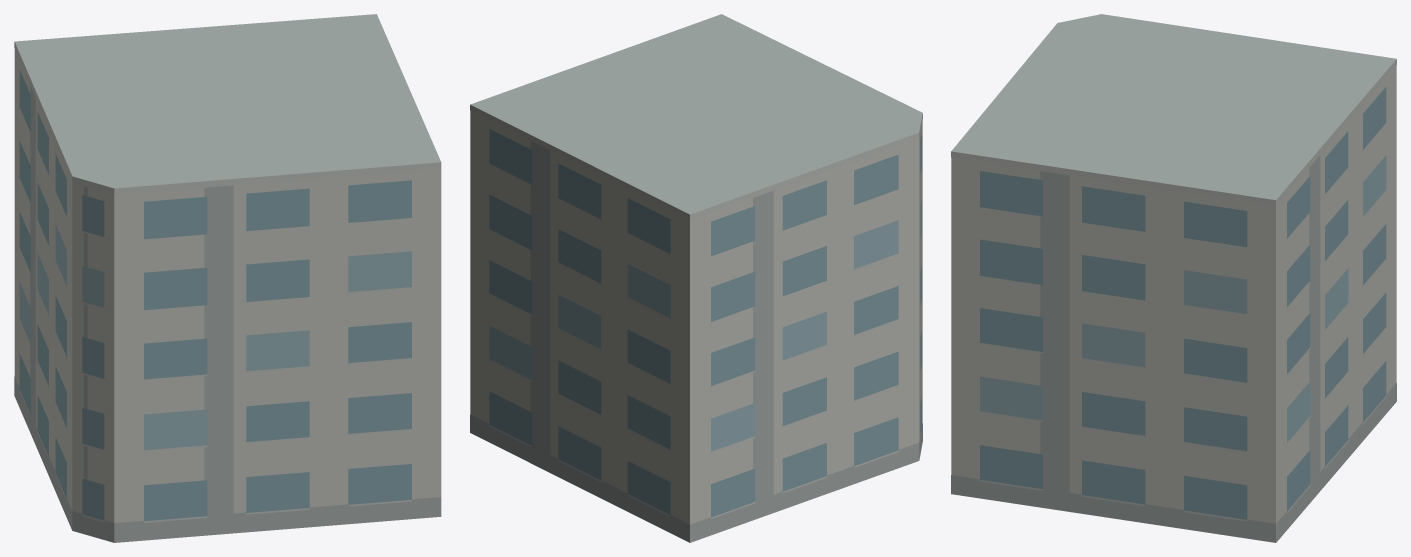
File: survey-upis-32851056.glb
The picture shows the model from 3 angles, left to right: view 1: azimuth 30°, elevation 25°; view 2: azimuth 150°, elevation 25°; view 3: azimuth 270°, elevation 25°; orthographic projection. The views are drawn at different scales.
Visible parts, largest first — view 1: survey-upis-32851056.tmp; view 2: survey-upis-32851056.tmp; view 3: survey-upis-32851056.tmp.
Boxes of the visible parts, x1=… form: survey-upis-32851056.tmp: x1=14, y1=14, x2=441, y2=542; survey-upis-32851056.tmp: x1=470, y1=14, x2=922, y2=542; survey-upis-32851056.tmp: x1=951, y1=14, x2=1396, y2=542.
Bounding box in the file's own units: 15.51 × 13.3 × 15.69.
